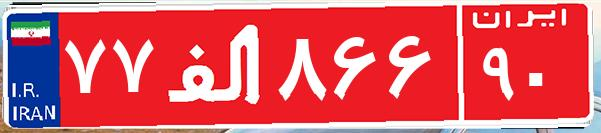0: (525, 38, 570, 115)
6: (385, 28, 445, 110), (330, 28, 385, 110)
7: (57, 26, 110, 107), (110, 28, 158, 105)
8: (273, 28, 330, 110)
9: (475, 38, 525, 113)
الف: (158, 15, 273, 115)
